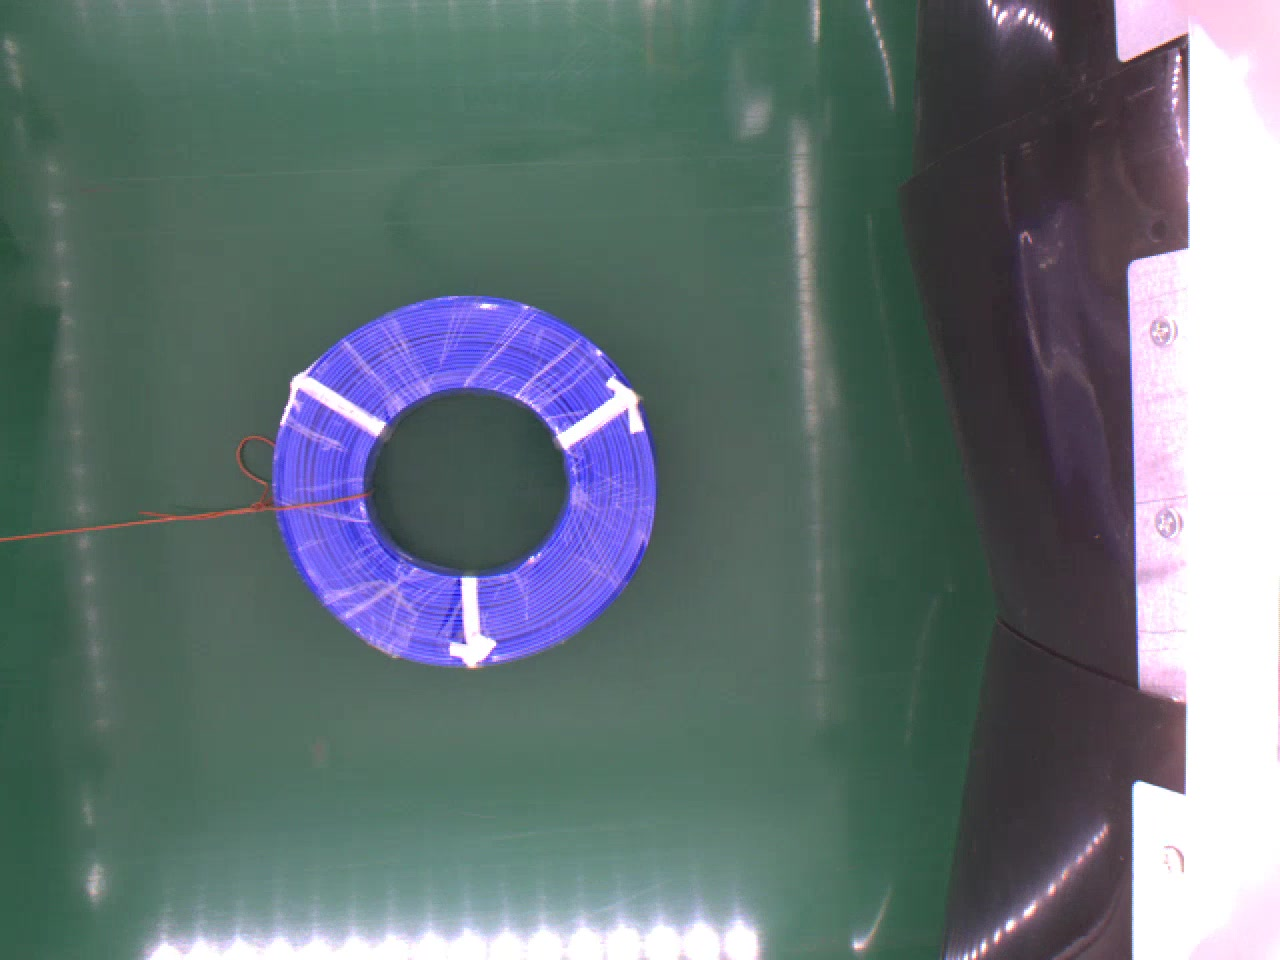blue: (266, 289, 657, 667)
